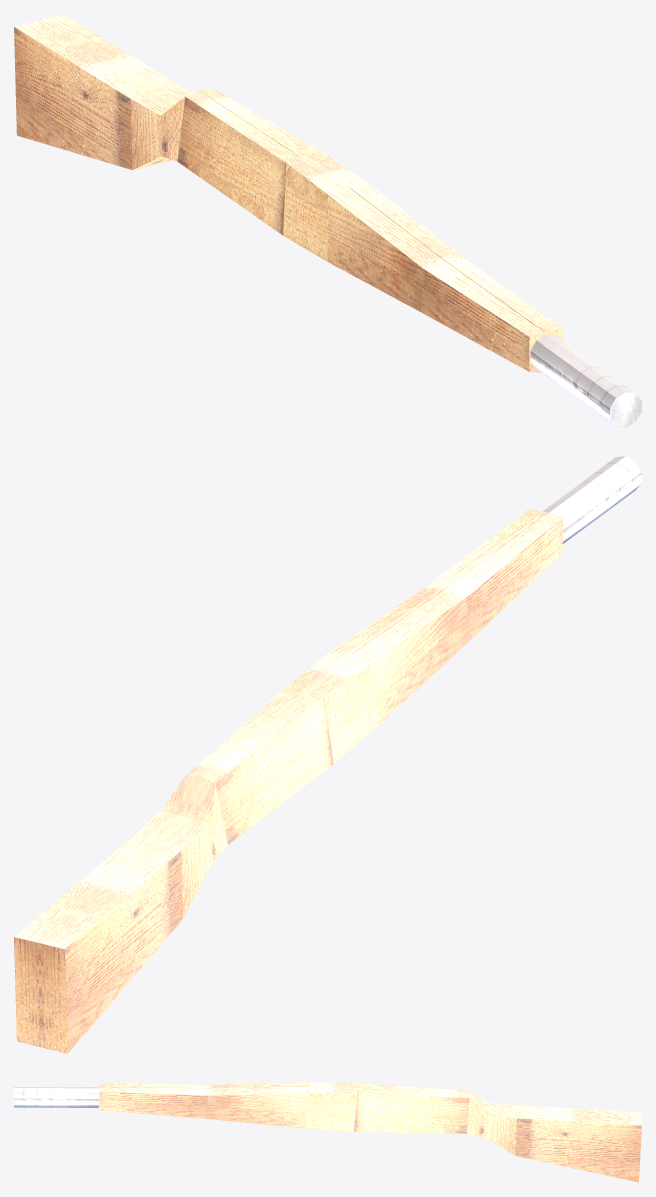
3 renders of one model, top to bottom at view 1: azimuth 30°, elevation 25°; view 2: azimuth 150°, elevation 25°; view 3: azimuth 270°, elevation 25°, orthographic. The views are drawn at different scales.
Visible parts, largest first — view 1: Cube; view 2: Cube; view 3: Cube.
Boxes of the visible parts, <box> form: Cube: <box>14,14,641,427</box>; Cube: <box>14,456,641,1053</box>; Cube: <box>14,1082,641,1182</box>.
Size of the model in its own units: 0.0602 by 0.1911 by 1.21.
